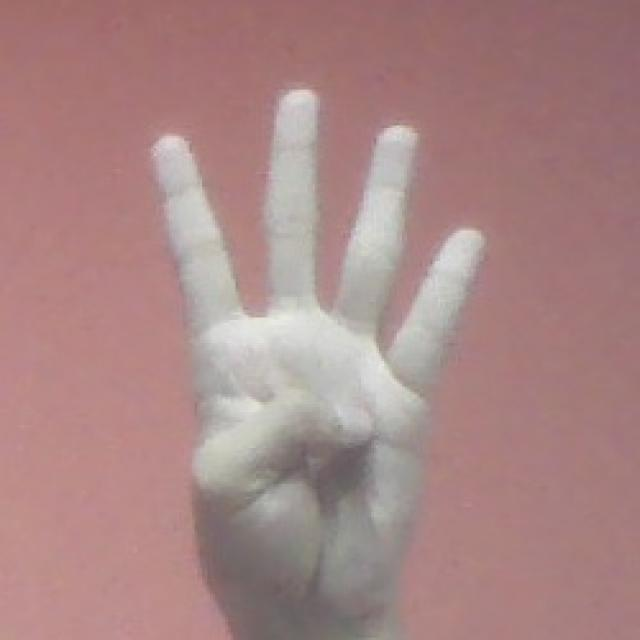Numeric-4: (148, 82, 486, 616)
